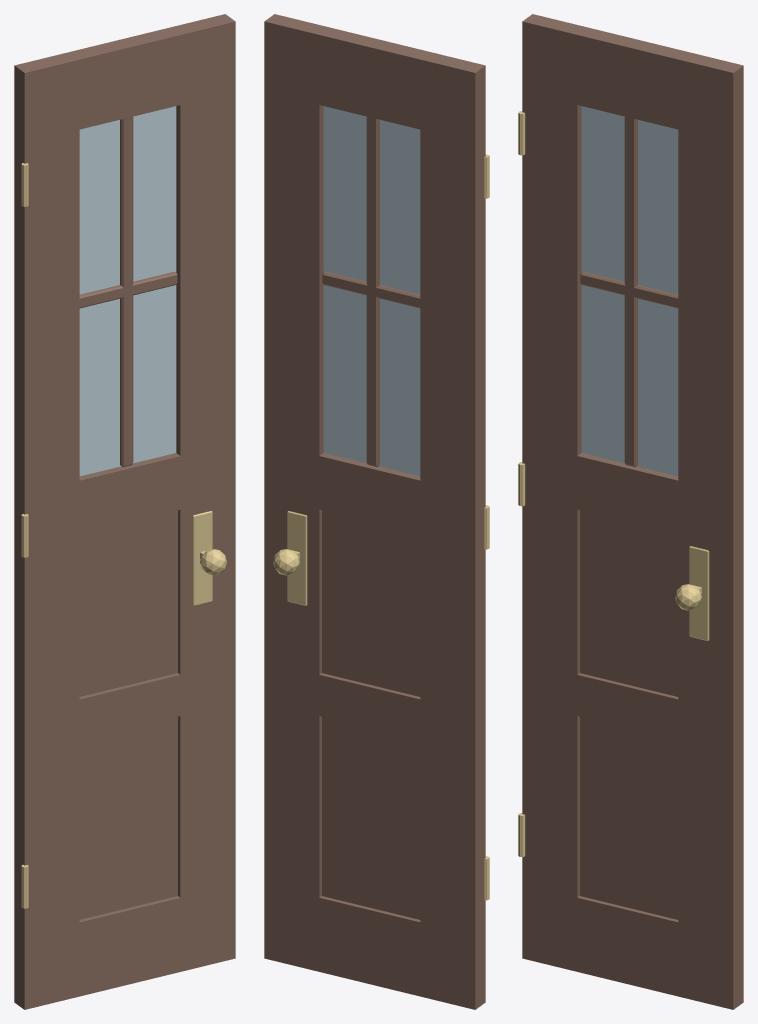
Rendered from door_leaf_french.glb.
3 views of the same model, side by side, from view 1: azimuth 30°, elevation 25°; view 2: azimuth 150°, elevation 25°; view 3: azimuth 330°, elevation 25° (orthographic).
Parts seen in each view (by area): view 1: door_leaf_french_door, door_leaf_french_glass, door_leaf_french_brass; view 2: door_leaf_french_door, door_leaf_french_glass, door_leaf_french_brass; view 3: door_leaf_french_door, door_leaf_french_glass, door_leaf_french_brass.
Boxes of the visible parts, x1,y1,x2,y2 form: door_leaf_french_door: (14,14,235,1009); door_leaf_french_glass: (79,106,176,476); door_leaf_french_brass: (21,163,226,908); door_leaf_french_door: (264,14,485,1009); door_leaf_french_glass: (323,106,420,476); door_leaf_french_brass: (273,154,489,900); door_leaf_french_door: (522,14,743,1009); door_leaf_french_glass: (581,106,678,476); door_leaf_french_brass: (518,111,709,857).
Bounding box in the file's own units: 0.543 × 2.27 × 0.205.
